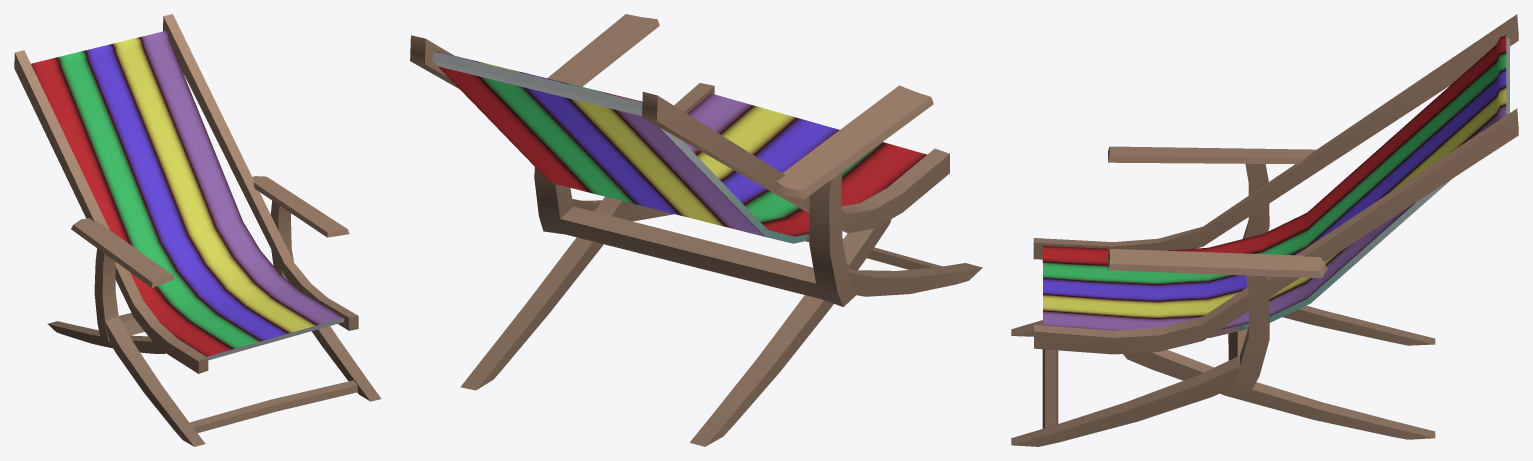
File: Beach_Chair.fbx
3 renders of one model, left to right at view 1: azimuth 30°, elevation 25°; view 2: azimuth 150°, elevation 25°; view 3: azimuth 270°, elevation 25°, orthographic. The views are drawn at different scales.
Visible parts, largest first — view 1: Cube.235; view 2: Cube.235; view 3: Cube.235.
Part boxes in pixels (x1,y1,x2,y2): Cube.235: [14, 14, 381, 446]; Cube.235: [410, 14, 982, 446]; Cube.235: [1011, 14, 1518, 446].
Size of the model in its own units: 178 by 215 by 304.
